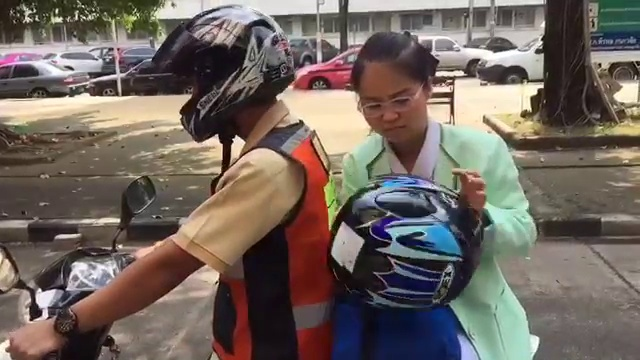helmet: (329, 162, 487, 306), (146, 6, 304, 140)
